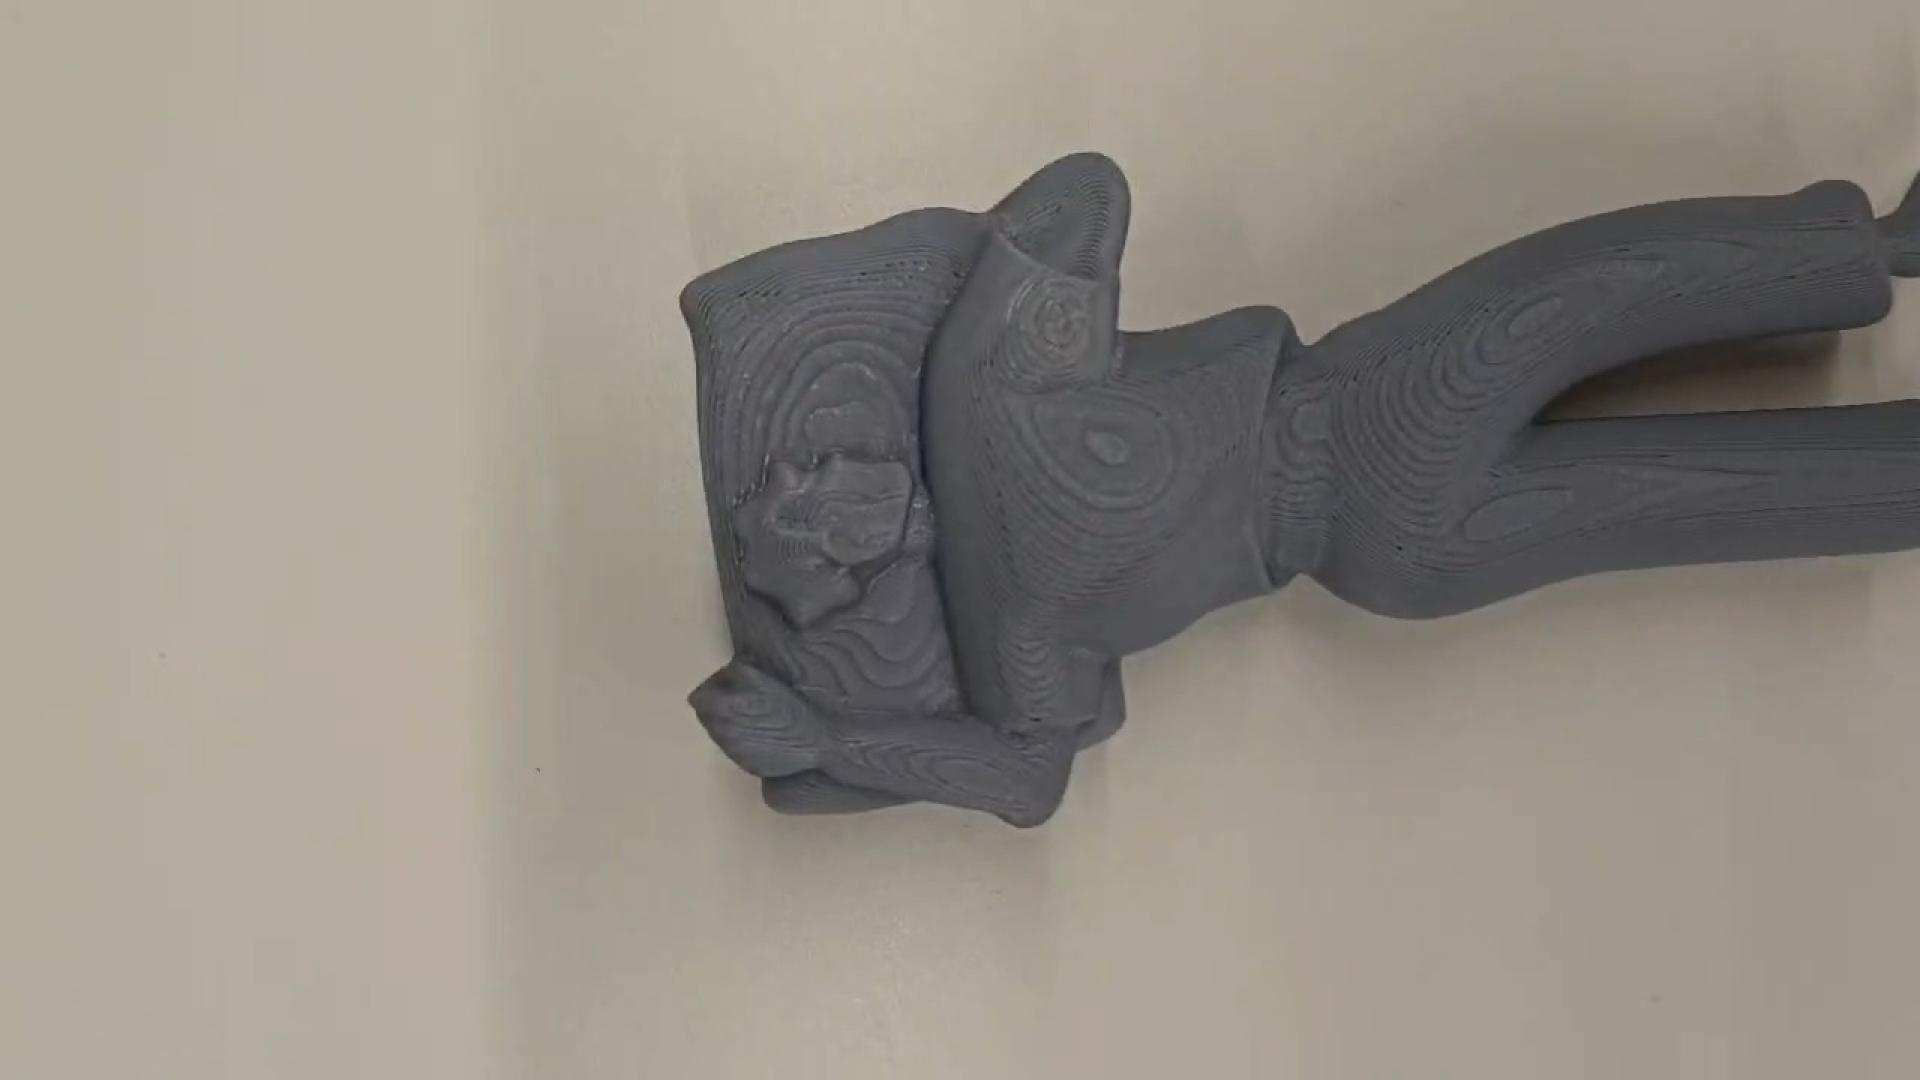Bad-style: (679, 146, 1920, 841)
